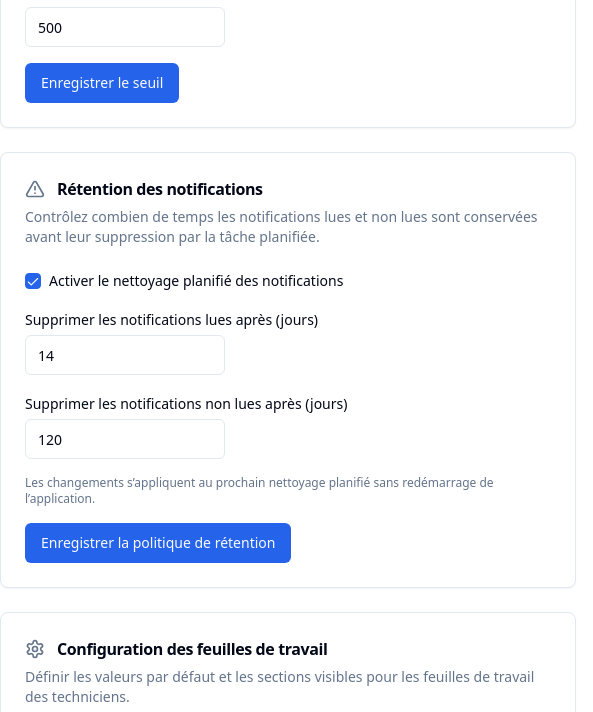
Test case: AdminSettings notification retention › validates notification retention days before saving
This screenshot has width=593, height=712.
(page scrolled)
Replace the text in the number field labelled "Supprimer les notifications lues après (jours)" with "0" at (125, 355), box [25,335,225,375]
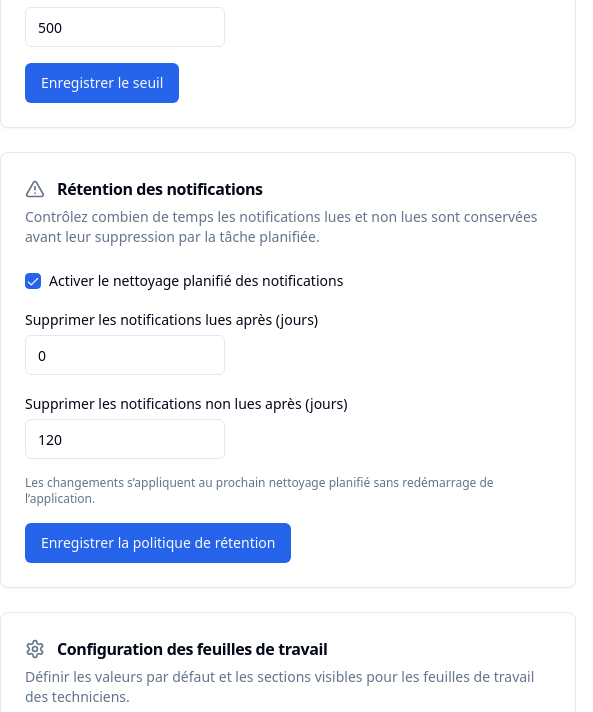
Click the button "Enregistrer la politique de rétention".
click(158, 543)  # box [25,523,292,563]
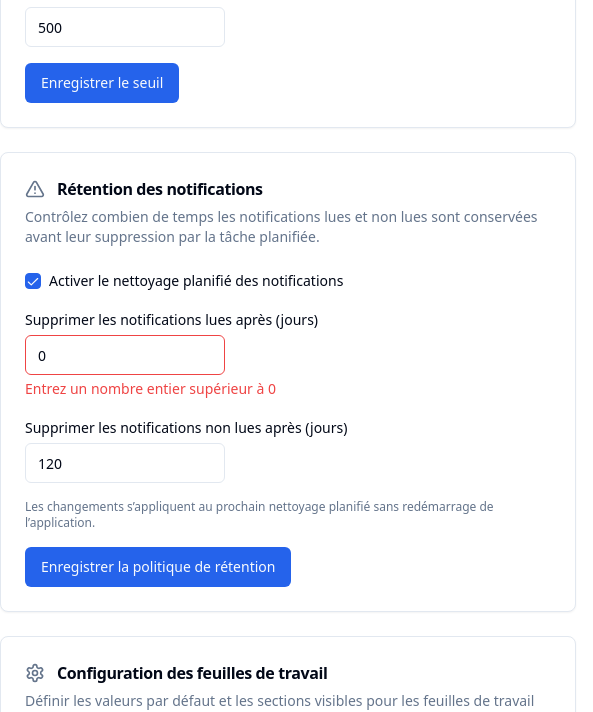
Result: the text "Entrez un nombre entier supérieur à 0" is shown at [25,379,276,398]
